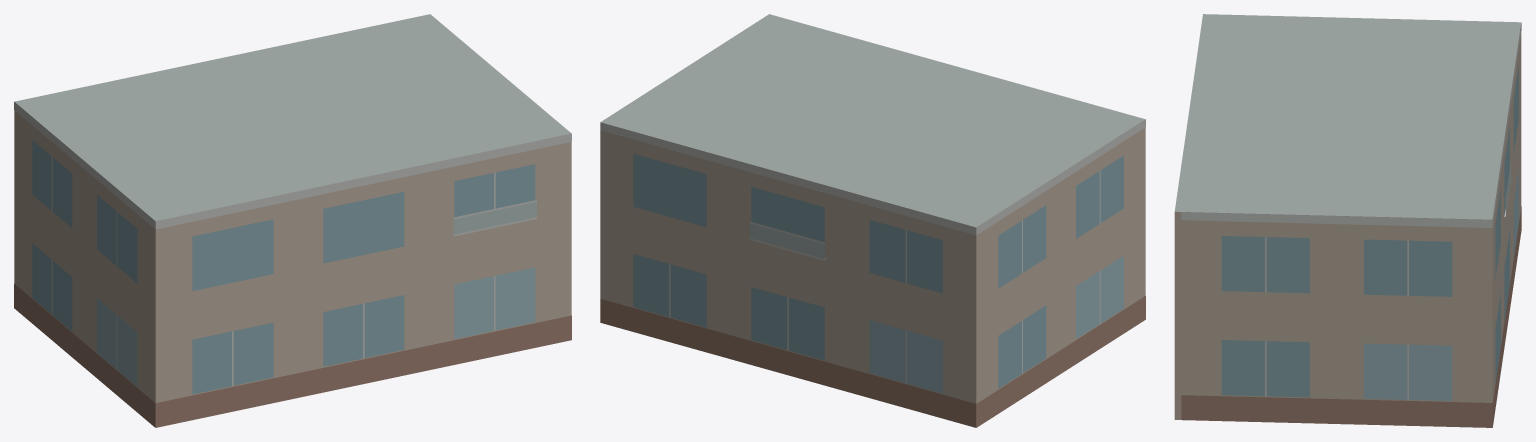
File: survey-upis-32912333.glb
3 views of the same model, side by side, from view 1: azimuth 30°, elevation 25°; view 2: azimuth 150°, elevation 25°; view 3: azimuth 270°, elevation 25° (orthographic). The views are drawn at different scales.
Parts seen in each view (by area): view 1: survey-upis-32912333.tmp; view 2: survey-upis-32912333.tmp; view 3: survey-upis-32912333.tmp.
Part boxes in pixels (x1=…): survey-upis-32912333.tmp: x1=14, y1=14, x2=571, y2=427; survey-upis-32912333.tmp: x1=600, y1=14, x2=1145, y2=427; survey-upis-32912333.tmp: x1=1174, y1=14, x2=1521, y2=427.
Size of the model in its own units: 12.94 by 6.1 by 9.22.
